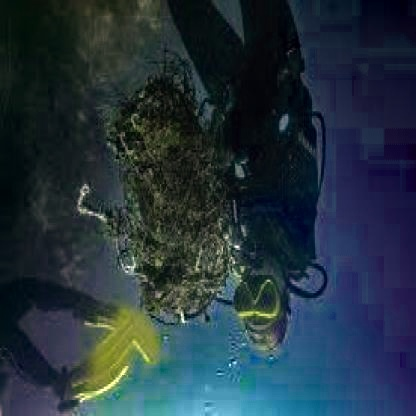net: (110, 77, 228, 323)
